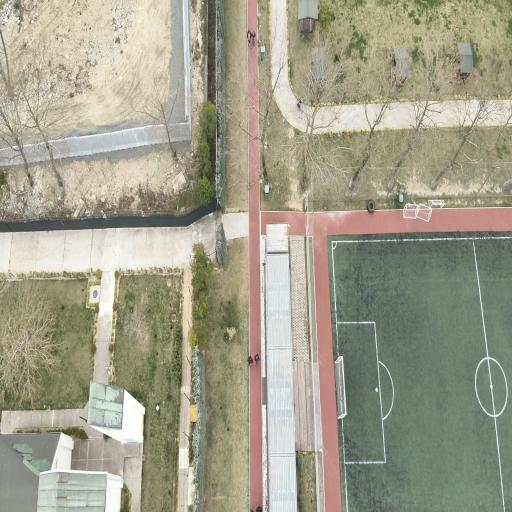person: (297, 98, 302, 111), (247, 30, 251, 45), (255, 354, 259, 364), (252, 32, 255, 45), (248, 356, 252, 365), (257, 506, 262, 511)
